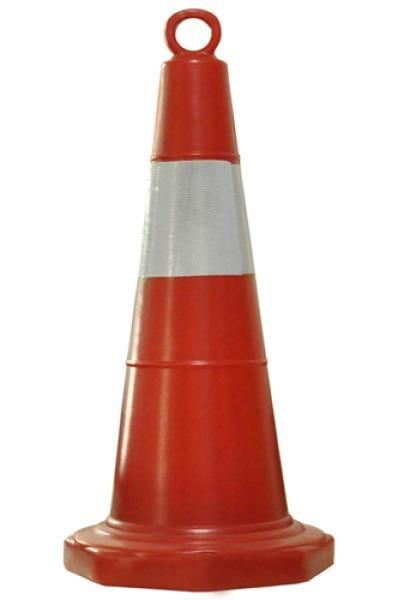cone_barrel: (90, 3, 302, 589)
